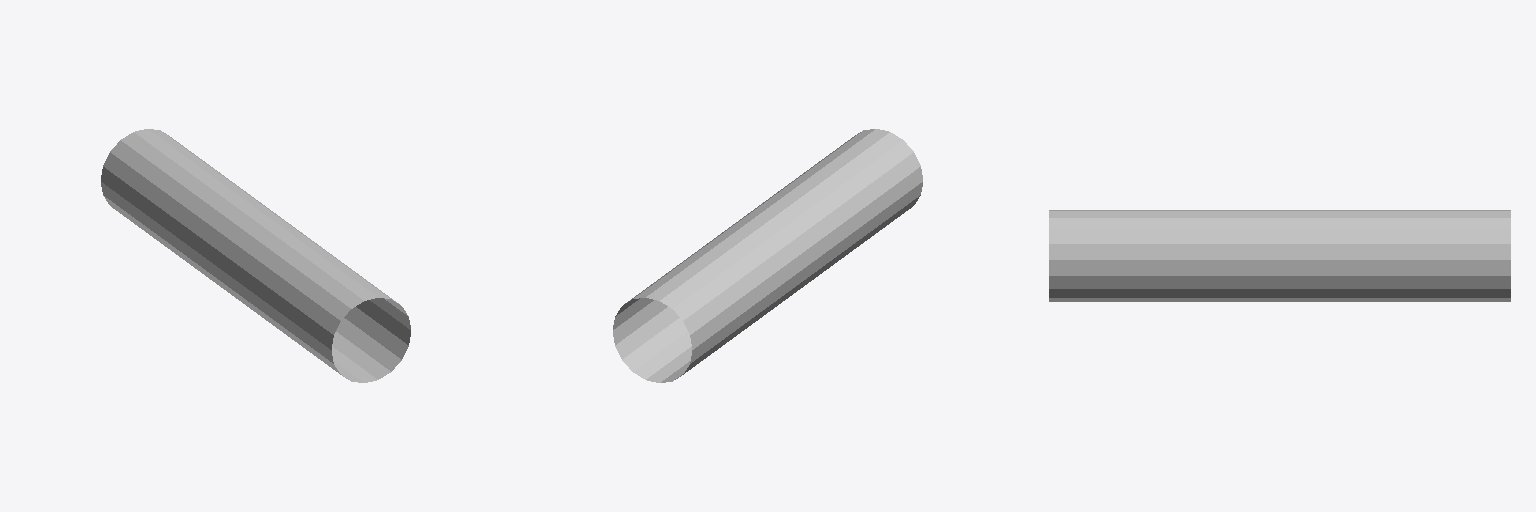
Rendered from pipe.obj.
3 renders of one model, left to right at view 1: azimuth 30°, elevation 25°; view 2: azimuth 150°, elevation 25°; view 3: azimuth 270°, elevation 25°, orthographic.
Parts seen in each view (by area): view 1: Cylinder01; view 2: Cylinder01; view 3: Cylinder01.
Part boxes in pixels (bbox=[...]): Cylinder01: bbox=[101, 129, 410, 382]; Cylinder01: bbox=[613, 129, 922, 382]; Cylinder01: bbox=[1049, 210, 1510, 301].
Bounding box in the file's own units: 2 × 1.97 × 10.